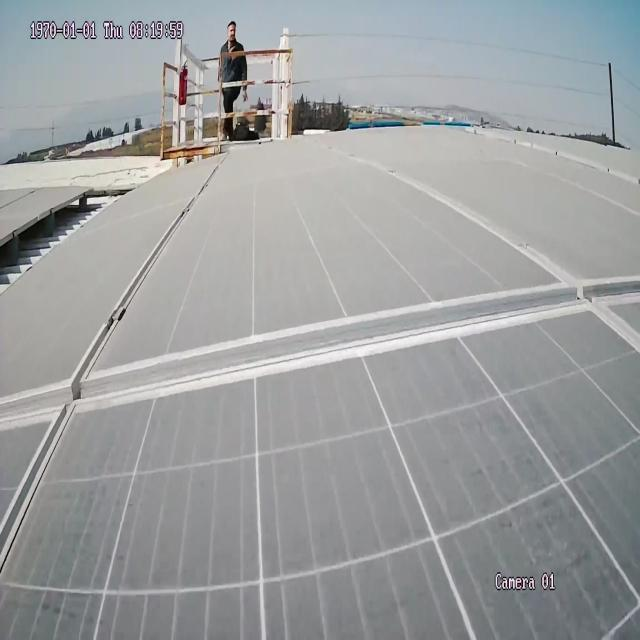interior panel: (0, 140, 640, 615)
outher panel: (0, 187, 133, 324)
